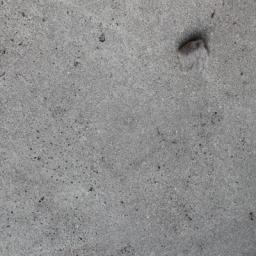FOD: (175, 36, 215, 78)
